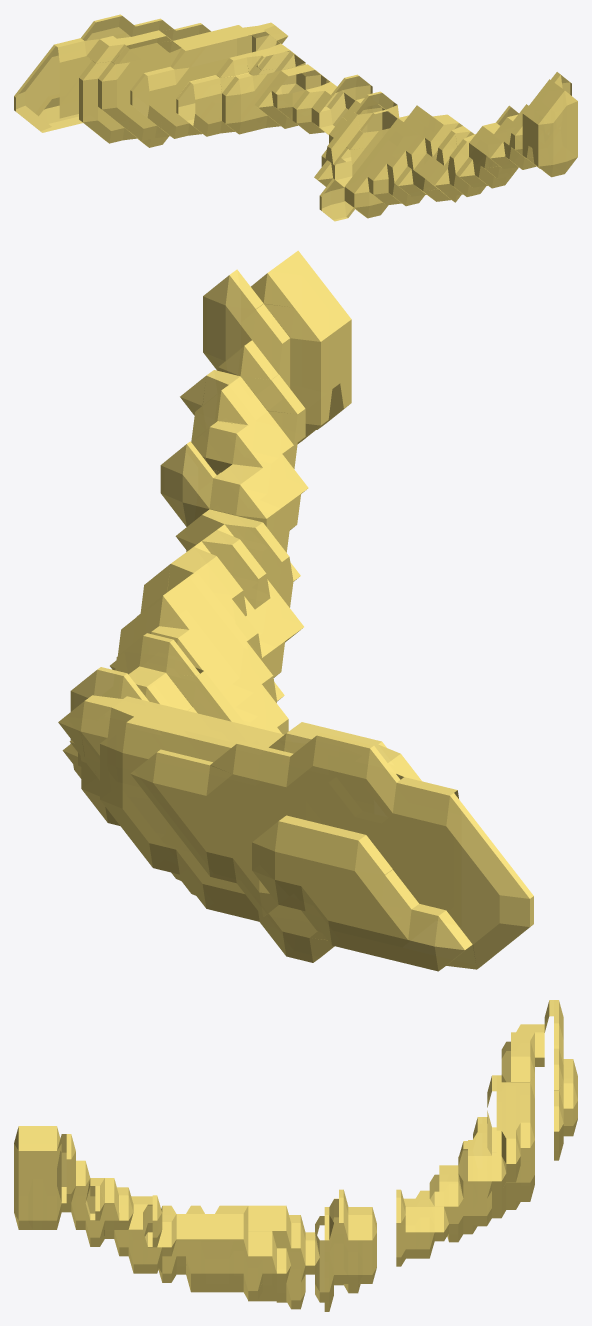
The model's file is SVV_BWM-DL06.gltf.
3 renders of one model, top to bottom at view 1: azimuth 30°, elevation 25°; view 2: azimuth 150°, elevation 25°; view 3: azimuth 270°, elevation 25°, orthographic. The views are drawn at different scales.
Parts seen in each view (by area): view 1: BWM-DL06; view 2: BWM-DL06; view 3: BWM-DL06.
Boxes of the visible parts, box(x1,y1,x2,y2) form: BWM-DL06: box(14, 14, 577, 221); BWM-DL06: box(58, 250, 533, 971); BWM-DL06: box(14, 1000, 577, 1311).
Bounding box in the file's own units: 13827 × 7168 × 15111.
